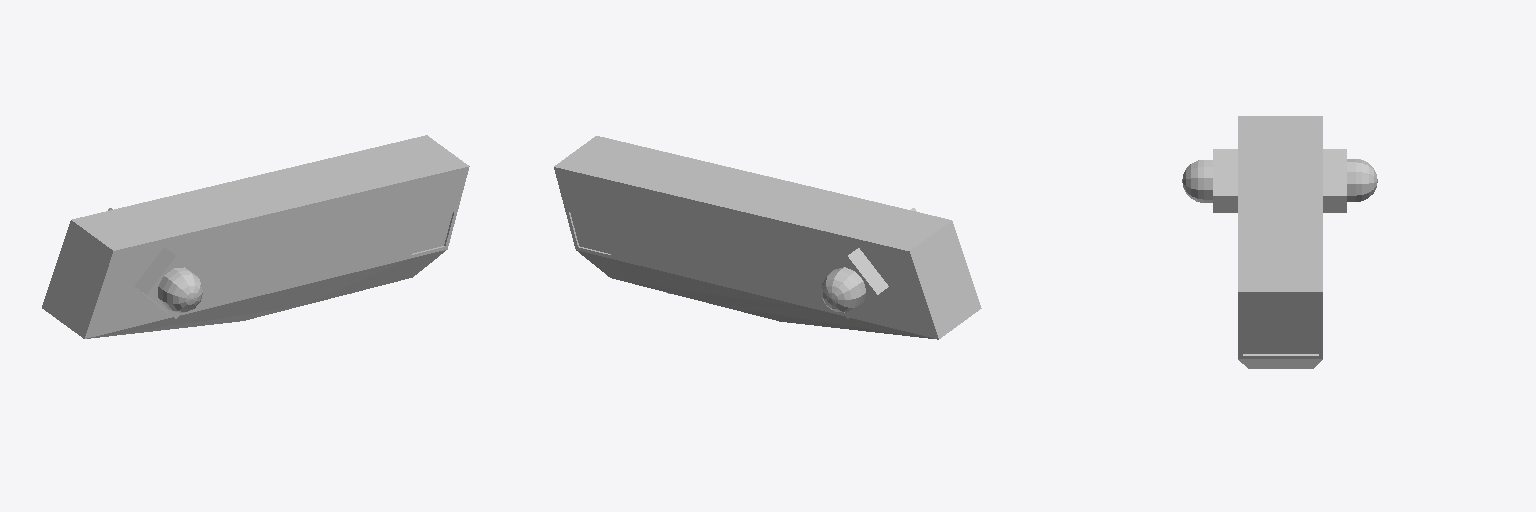
The model's file is aircar_cargo.obj.
The picture shows the model from 3 angles: view 1: azimuth 30°, elevation 25°; view 2: azimuth 150°, elevation 25°; view 3: azimuth 270°, elevation 25°; orthographic projection.
Parts seen in each view (by area): view 1: darkgrey, whitelight, lightgrey, windowlight; view 2: darkgrey, whitelight, lightgrey, windowlight; view 3: darkgrey, lightgrey, whitelight, windowlight.
Boxes of the visible parts, <box> form: darkgrey: <box>42,135,469,338</box>; whitelight: <box>158,267,351,312</box>; lightgrey: <box>108,208,206,318</box>; windowlight: <box>412,212,452,253</box>; darkgrey: <box>554,136,981,339</box>; whitelight: <box>666,267,866,312</box>; lightgrey: <box>817,208,916,318</box>; windowlight: <box>570,212,610,253</box>; darkgrey: <box>1238,116,1322,368</box>; lightgrey: <box>1213,149,1346,212</box>; whitelight: <box>1182,159,1377,202</box>; windowlight: <box>1243,328,1318,353</box>.
Bounding box in the file's own units: 781 × 234 × 344.